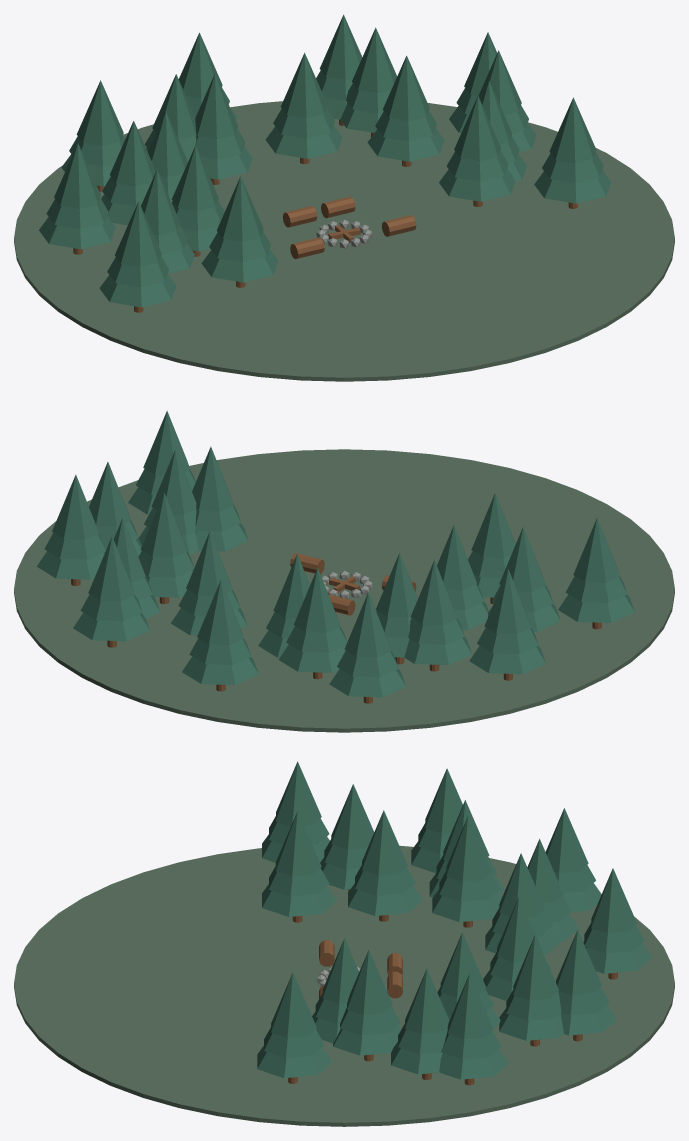
Rendered from campfire.glb.
3 views of the same model, one above another, from view 1: azimuth 30°, elevation 25°; view 2: azimuth 150°, elevation 25°; view 3: azimuth 270°, elevation 25° (orthographic).
Parts seen in each view (by area): view 1: Clearing.002, Cone.221, Cone.194, Cone.218, Cone.242, Cone.251, Cone.203, Cone.215, Cone.212, Cone.224, Cone.236, Cone.200 (+35 smaller); view 2: Clearing.002, Cone.248, Cone.224, Cone.221, Cone.245, Cone.203, Cone.212, Cone.230, Cone.239, Cone.236, Cone.242, Cone.194 (+41 smaller); view 3: Clearing.002, Cone.242, Cone.200, Cone.248, Cone.230, Cone.251, Cone.197, Cone.218, Cone.233, Cone.209, Cone.239, Cone.227 (+42 smaller).
Boxes of the visible parts, <box> form: Clearing.002: <box>14,101,674,381</box>; Cone.221: <box>76,80,123,145</box>; Cone.194: <box>454,95,500,161</box>; Cone.218: <box>549,97,596,163</box>; Cone.242: <box>216,176,263,241</box>; Cone.251: <box>171,145,218,210</box>; Cone.203: <box>115,201,161,266</box>; Cone.215: <box>280,52,327,118</box>; Cone.212: <box>54,143,100,208</box>; Cone.224: <box>383,55,429,121</box>; Cone.236: <box>110,121,155,186</box>; Cone.200: <box>352,27,397,93</box>; Clearing.002: <box>14,449,674,732</box>; Cone.248: <box>52,474,98,539</box>; Cone.224: <box>140,492,187,557</box>; Cone.221: <box>344,592,391,657</box>; Cone.245: <box>293,568,340,632</box>; Cone.203: <box>573,518,620,582</box>; Cone.212: <box>484,569,531,634</box>; Cone.230: <box>197,580,243,644</box>; Cone.239: <box>88,536,135,601</box>; Cone.236: <box>410,560,457,624</box>; Cone.242: <box>471,493,515,557</box>; Cone.194: <box>192,446,233,511</box>; Clearing.002: <box>14,845,674,1126</box>; Cone.242: <box>275,811,321,876</box>; Cone.200: <box>513,935,558,1000</box>; Cone.248: <box>447,974,493,1039</box>; Cone.230: <box>591,868,636,933</box>; Cone.251: <box>362,810,407,875</box>; Cone.197: <box>446,816,491,881</box>; Cone.218: <box>271,972,316,1037</box>; Cone.233: <box>347,950,392,1015</box>; Cone.209: <box>405,968,449,1034</box>; Cone.239: <box>556,930,601,995</box>; Cone.227: <box>331,784,374,849</box>.
Size of the model in its own units: 30 by 5.72 by 30.
